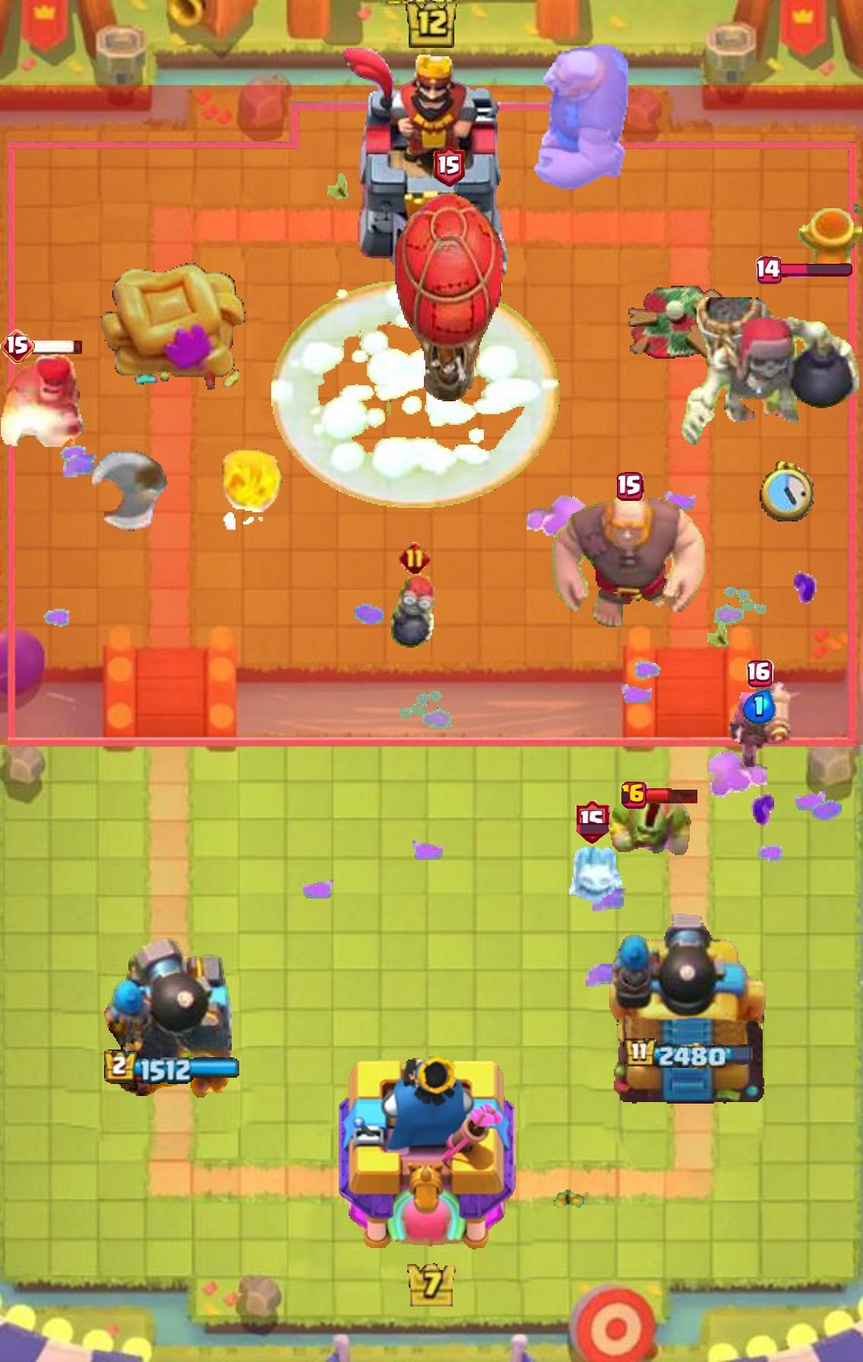bar: (778, 263, 852, 278), (28, 338, 84, 355), (645, 787, 700, 804)
bar-level: (575, 800, 610, 844), (433, 147, 465, 187), (0, 329, 35, 364), (399, 542, 431, 574), (616, 472, 645, 501), (746, 660, 774, 689), (621, 781, 649, 809), (756, 257, 782, 285)
